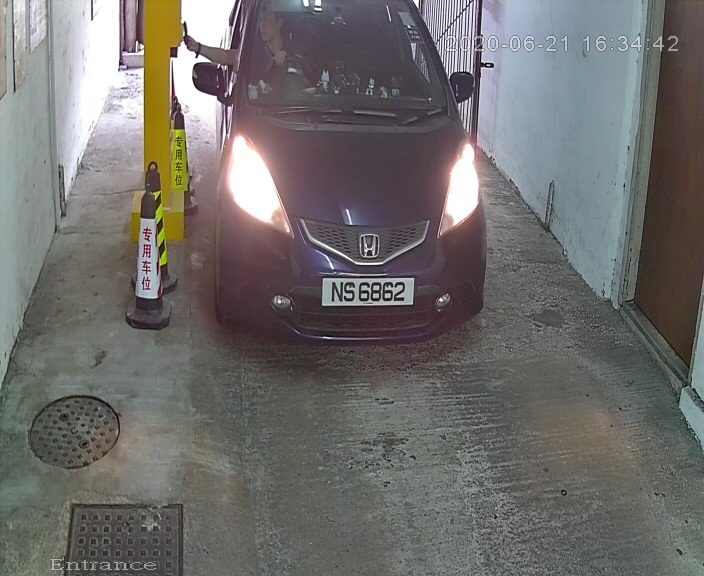privatecar: (184, 1, 500, 361)
